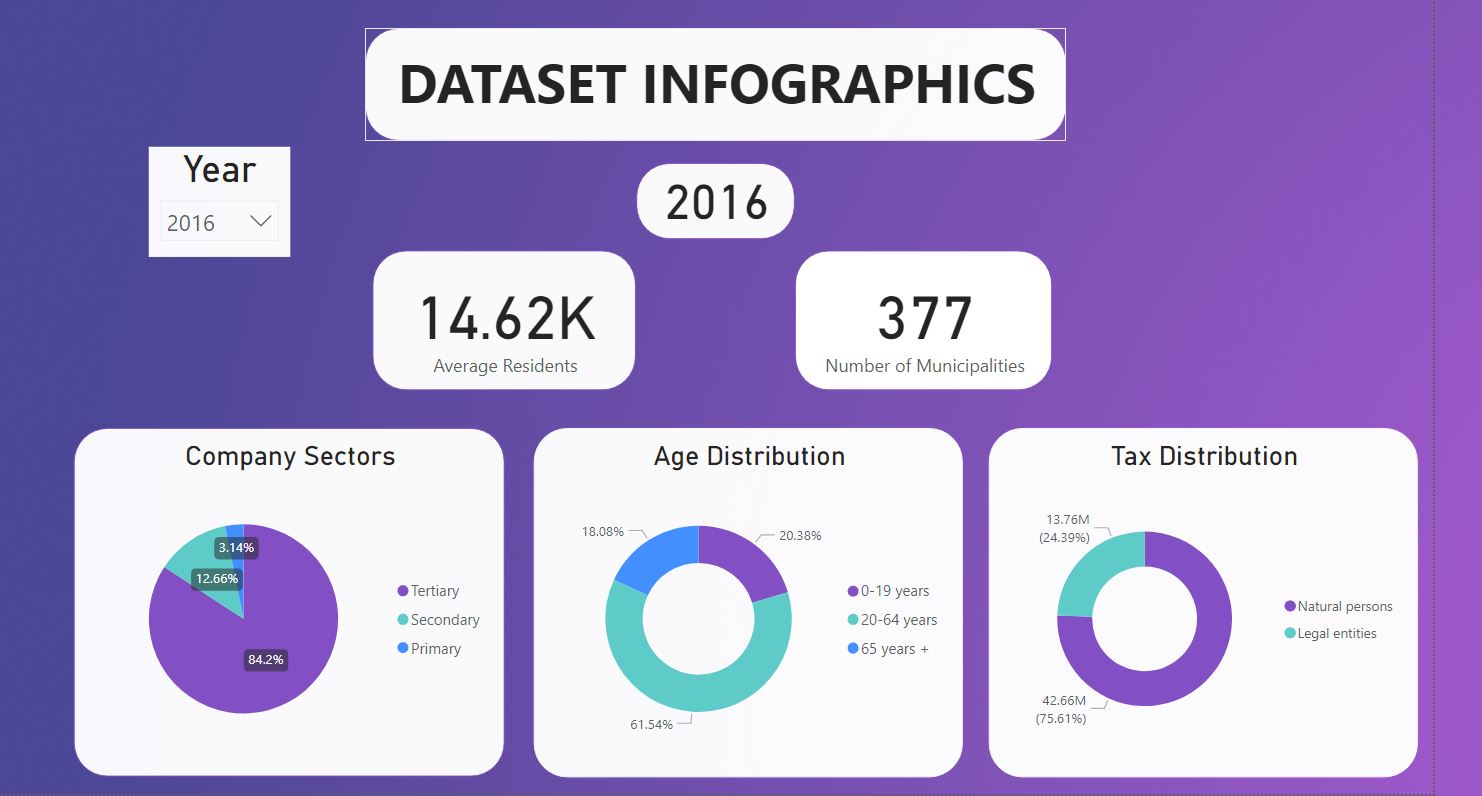

The page's visual inventory and layout, read from the dashboard file:
{"tool":"powerbi","page":{"name":"Infographics","canvas":[1280,720],"ordinal":0},"visuals":[{"type":"card","fields":{"Values":["Sum(Info.Number of Municipalities)"]},"box":[710,234.4,230,125],"z":0},{"type":"donutChart","title":"Tax Distribution","fields":{"Y":["Sum(Info.Direct taxes, natural persons)","Sum(Info.Direct taxes, legal entities)"]},"box":[883.1,392.8,383.2,311.8],"z":1000},{"type":"pieChart","title":"Company Sectors","fields":{"Y":["Sum(Info.Companies tertiary sector)","Sum(Info.Companies secondary sector)","Sum(Info.Companies primary sector)"]},"box":[65.9,392.9,385.1,311.4],"z":2000},{"type":"card","fields":{"Values":["Sum(Info.Residents)"]},"box":[332.7,234.4,235.5,125],"z":3000},{"type":"textbox","box":[568.2,156.3,141.8,68.1],"z":4000},{"type":"textbox","box":[326,35.7,626.2,100.5],"z":5000},{"type":"slicer","title":"Year","fields":{"Values":["Info.year"]},"box":[132.8,141.8,126.1,98.2],"z":6000},{"type":"donutChart","title":"Age Distribution","fields":{"Y":["Sum(Info.0-19 years)","Sum(Info.20-64 years)","Sum(Info.65 years or over)"]},"box":[476.6,392.8,383.2,311.8],"z":7000}]}

Visuals, with their boxes in screenshot pixels (x1, y1, x2, y2):
card - Sum(Info.Number of Municipalities): [794, 245, 1054, 386]
"Tax Distribution" donutChart: [989, 424, 1422, 776]
"Company Sectors" pieChart: [67, 424, 501, 776]
card - Sum(Info.Residents): [368, 245, 634, 386]
textbox: [634, 157, 794, 234]
textbox: [360, 21, 1067, 134]
"Year" slicer: [142, 141, 285, 252]
"Age Distribution" donutChart: [530, 424, 963, 776]
